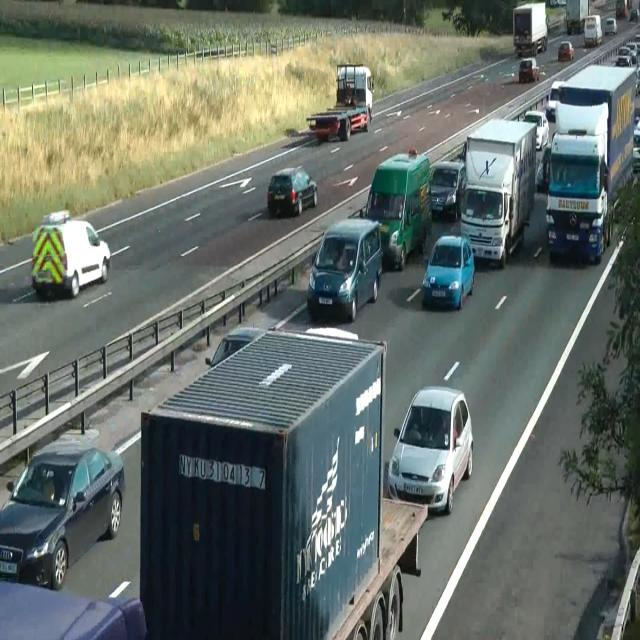bus: (0, 433, 125, 590), (386, 385, 474, 515), (0, 579, 147, 639), (30, 209, 110, 299), (421, 235, 475, 310), (597, 546, 639, 639), (205, 325, 267, 371), (266, 165, 318, 218), (521, 110, 549, 150), (546, 80, 566, 120), (535, 143, 551, 192), (518, 58, 540, 82), (632, 116, 640, 172), (558, 41, 574, 61), (604, 16, 617, 35), (626, 42, 640, 56), (634, 66, 640, 96), (633, 115, 639, 142), (629, 8, 639, 21)
car: (544, 131, 610, 264)
jeep: (306, 216, 382, 323), (428, 159, 466, 221)
minibus: (139, 325, 428, 639), (544, 63, 638, 264), (460, 118, 536, 268), (349, 148, 432, 270), (306, 63, 374, 141), (517, 110, 549, 190), (336, 63, 374, 124), (512, 1, 548, 57), (564, 0, 590, 35), (584, 14, 602, 46), (615, 0, 639, 21)
